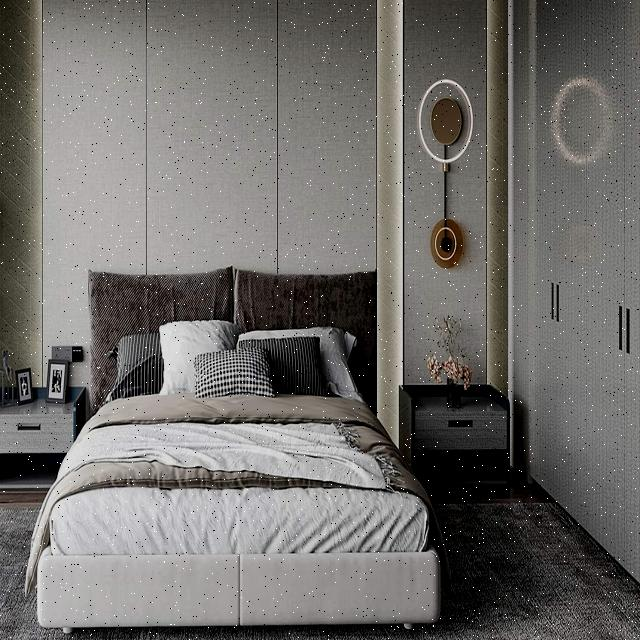bed: (26, 263, 438, 631)
